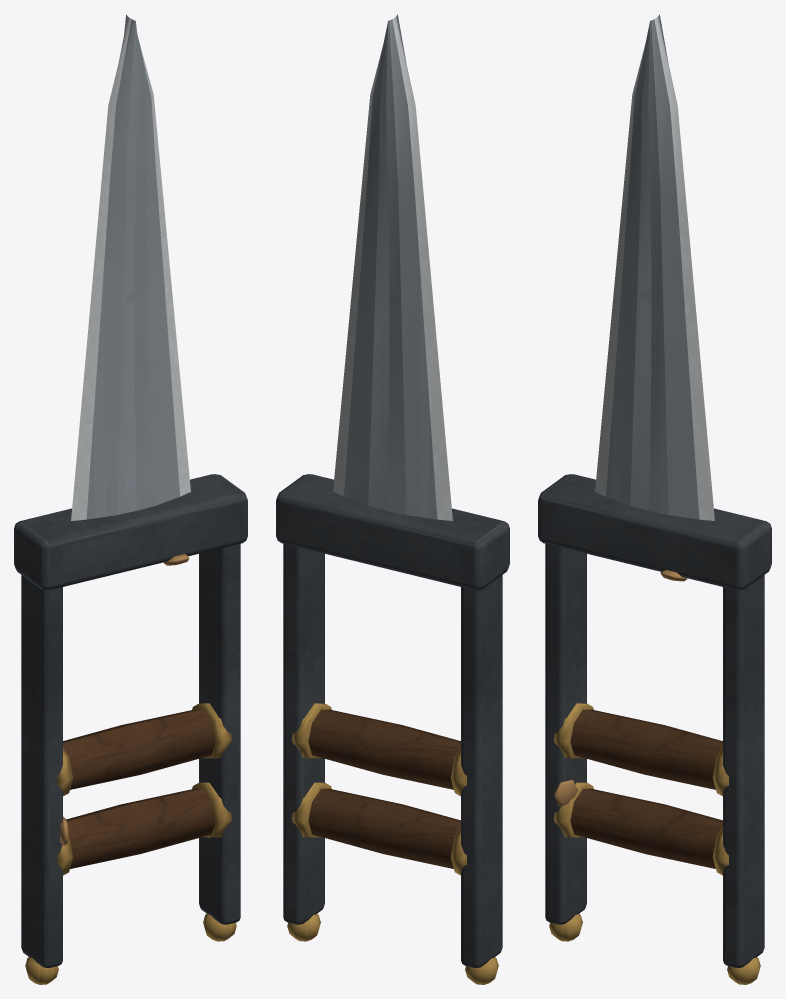
File: punch-dagger.lod2.glb
3 views of the same model, side by side, from view 1: azimuth 30°, elevation 25°; view 2: azimuth 150°, elevation 25°; view 3: azimuth 330°, elevation 25° (orthographic).
Parts seen in each view (by area): view 1: darksteel / oil-blackened fittings, steel / forged blade steel, leather / oiled leather wrap, edge / honed bright bevel, brass / polished brass furniture; view 2: darksteel / oil-blackened fittings, steel / forged blade steel, leather / oiled leather wrap, edge / honed bright bevel, brass / polished brass furniture; view 3: darksteel / oil-blackened fittings, steel / forged blade steel, leather / oiled leather wrap, edge / honed bright bevel, brass / polished brass furniture, peened pin.
Part boxes in pixels (bbox=[...]): darksteel / oil-blackened fittings: bbox=[14, 474, 247, 967]; steel / forged blade steel: bbox=[86, 14, 179, 519]; leather / oiled leather wrap: bbox=[63, 709, 215, 868]; edge / honed bright bevel: bbox=[71, 17, 190, 520]; brass / polished brass furniture: bbox=[25, 703, 236, 984]; darksteel / oil-blackened fittings: bbox=[276, 474, 509, 967]; steel / forged blade steel: bbox=[344, 14, 437, 519]; leather / oiled leather wrap: bbox=[308, 709, 460, 868]; edge / honed bright bevel: bbox=[333, 17, 452, 520]; brass / polished brass furniture: bbox=[287, 703, 498, 984]; darksteel / oil-blackened fittings: bbox=[538, 474, 771, 967]; steel / forged blade steel: bbox=[606, 14, 699, 519]; leather / oiled leather wrap: bbox=[570, 709, 722, 868]; edge / honed bright bevel: bbox=[595, 17, 714, 520]; brass / polished brass furniture: bbox=[549, 703, 760, 984]; peened pin: bbox=[554, 570, 687, 806].
Size of the model in its own units: 0.11 by 0.477 by 0.033.
6 materials, 5 textured.
